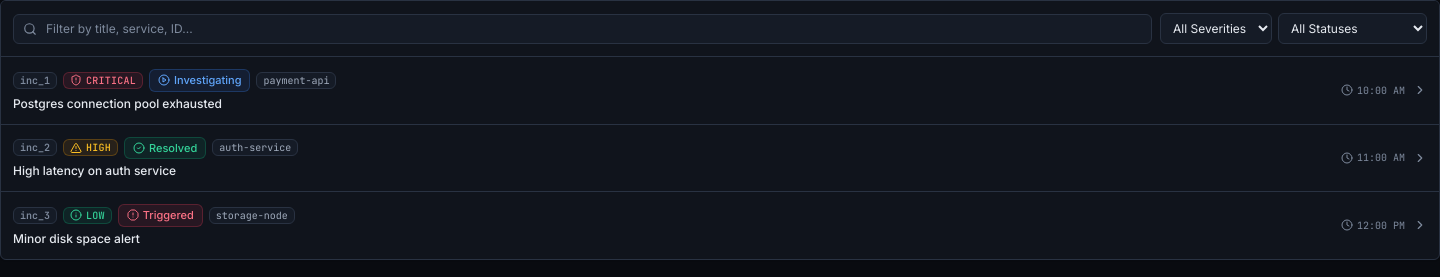
Test case: IncidentList › filters incidents by search query
Step 1. Type "Postgres" into the field with test id "search-incidents-input" → (582, 28), box [13, 14, 1152, 44]
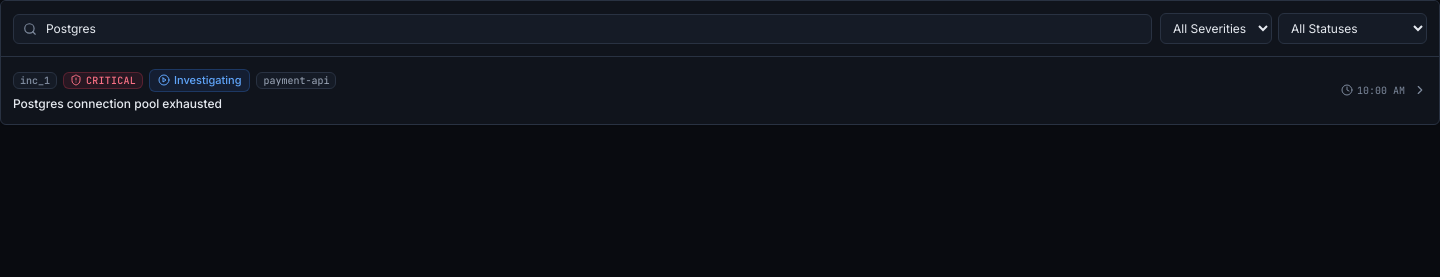
Expected: the heading "Postgres connection pool exhausted" is shown, [13, 96, 222, 110]
Result: the heading "High latency on auth service" is gone
